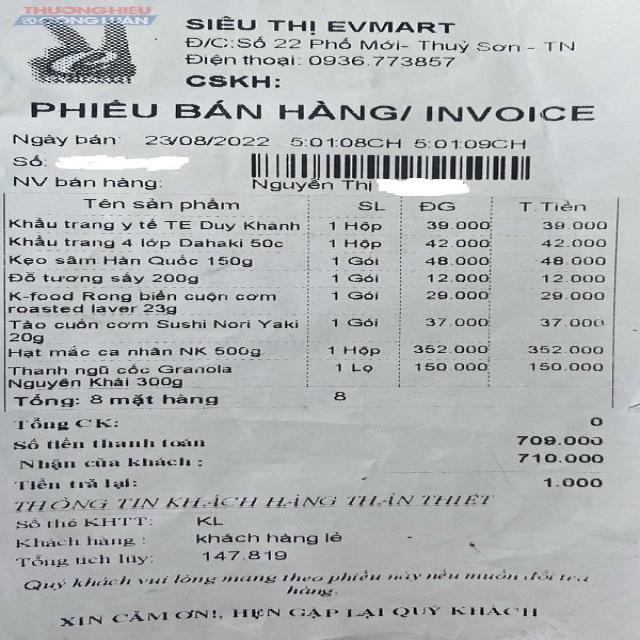Date: (142, 132, 274, 149)
Store_Name: (178, 11, 460, 35)
amount_number: (511, 436, 609, 446)
label_total: (11, 438, 210, 452)
